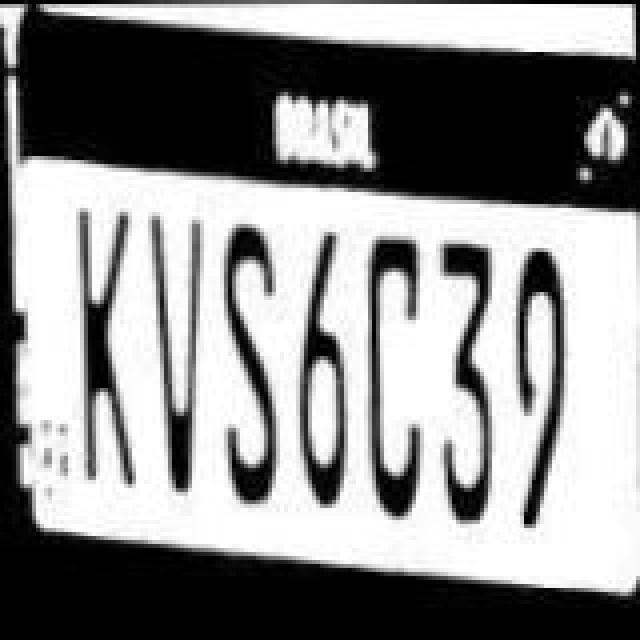6: (290, 218, 354, 522)
9: (432, 234, 504, 534), (508, 246, 572, 538)
C: (366, 234, 426, 526)
K: (68, 204, 144, 492)
S: (216, 218, 284, 510)
V: (146, 212, 210, 500)
